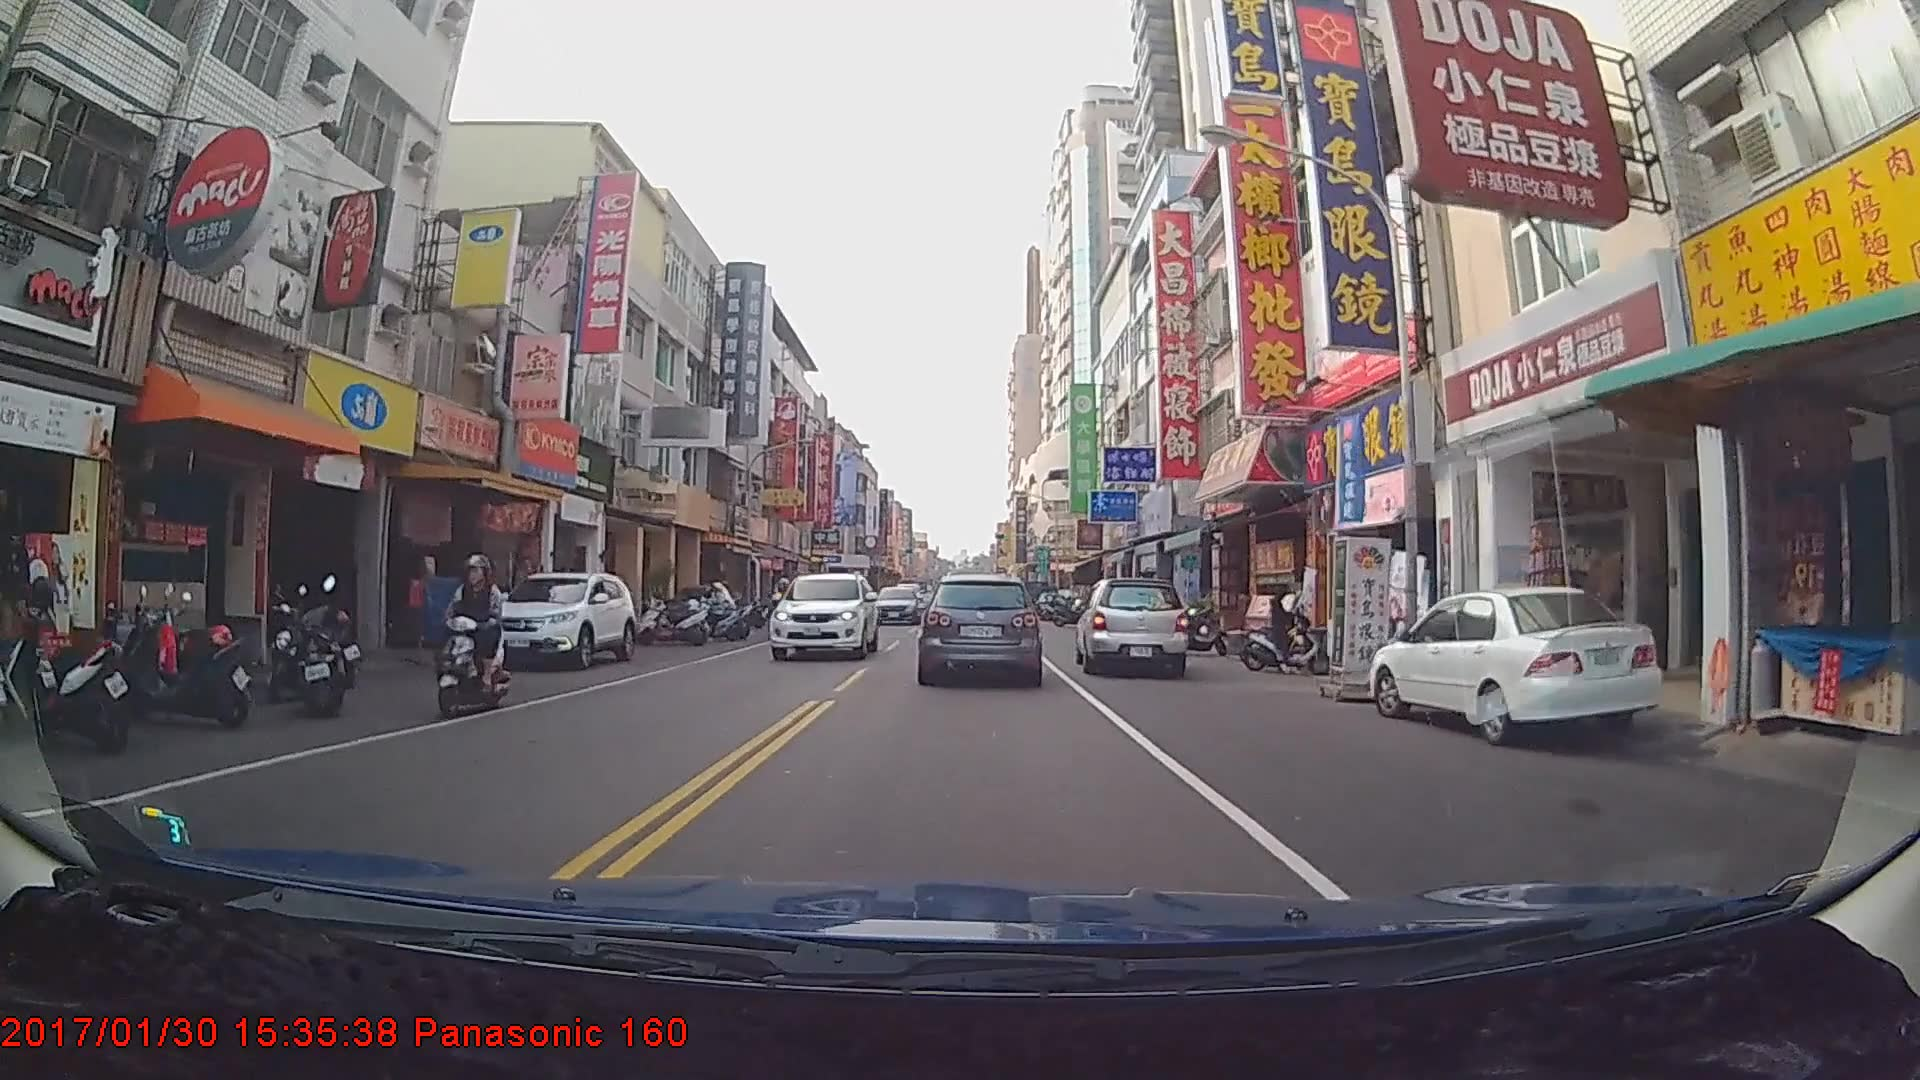rider: (436, 557, 516, 724), (1238, 578, 1336, 677)
vehicle: (1366, 588, 1665, 739), (475, 571, 634, 671), (920, 572, 1041, 684), (1075, 574, 1187, 677), (770, 572, 878, 659), (867, 584, 920, 625)
